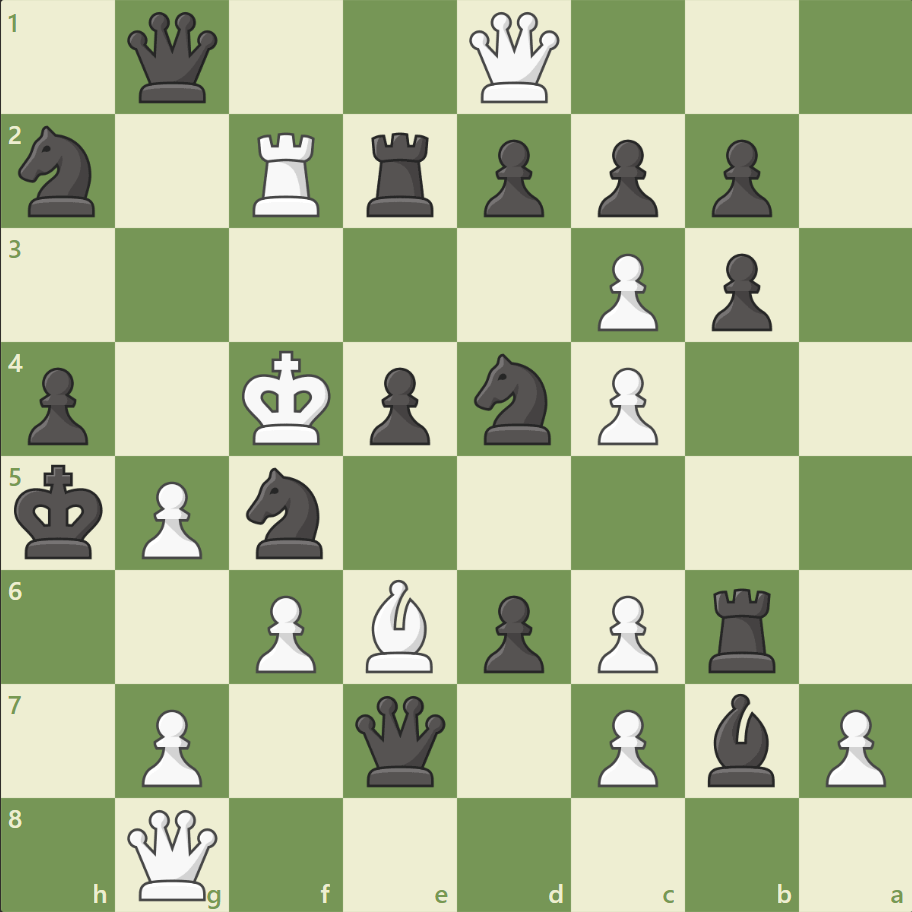B: (358, 574, 442, 676)
K: (238, 344, 338, 452)
P: (133, 700, 208, 791), (247, 586, 322, 677), (133, 473, 208, 564), (815, 700, 889, 791), (588, 700, 662, 791), (588, 586, 662, 677), (588, 359, 662, 450), (588, 246, 662, 337)
Q: (124, 804, 223, 903), (464, 9, 563, 108)
R: (246, 125, 329, 222)
b: (698, 687, 782, 790)
k: (11, 458, 111, 566)
n: (238, 461, 335, 564), (465, 348, 562, 450), (11, 121, 108, 223)
p: (474, 586, 549, 677), (20, 359, 95, 450), (701, 246, 776, 337), (701, 132, 776, 223), (474, 132, 549, 223), (361, 359, 435, 450), (588, 132, 662, 223)
q: (351, 690, 450, 789), (124, 9, 223, 108)
r: (700, 579, 783, 676), (360, 125, 442, 222)
